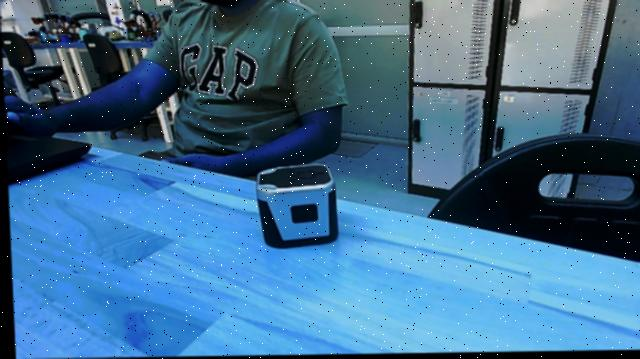adapter: (250, 160, 337, 252)
